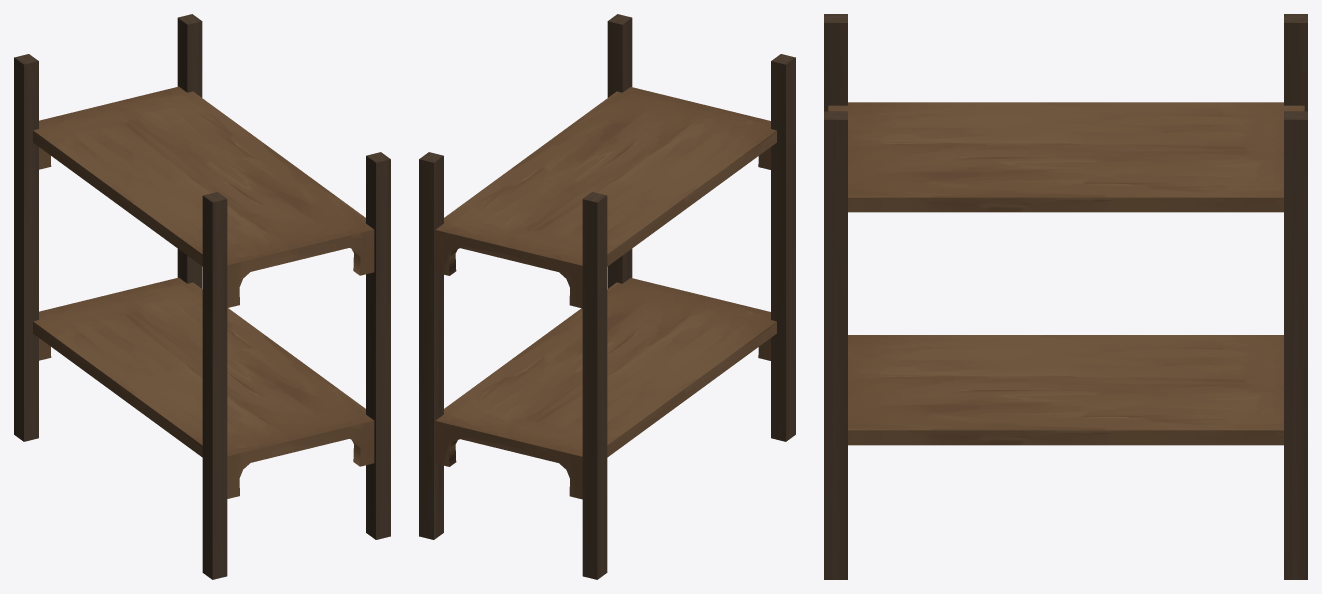
The model's file is A_3D-ESA.fbx.
3 views of the same model, side by side, from view 1: azimuth 30°, elevation 25°; view 2: azimuth 150°, elevation 25°; view 3: azimuth 270°, elevation 25° (orthographic). The views are drawn at different scales.
Visible parts, largest first — view 1: polySurface7, polySurface8; view 2: polySurface7, polySurface8; view 3: polySurface7, polySurface8.
Boxes of the visible parts, x1=… form: polySurface7: x1=33, y1=86, x2=374, y2=498; polySurface8: x1=14, y1=14, x2=390, y2=579; polySurface7: x1=435, y1=87, x2=776, y2=499; polySurface8: x1=419, y1=14, x2=795, y2=579; polySurface7: x1=828, y1=102, x2=1304, y2=445; polySurface8: x1=824, y1=14, x2=1307, y2=579.
Bounding box in the file's own units: 5.94 × 12.01 × 11.45.
